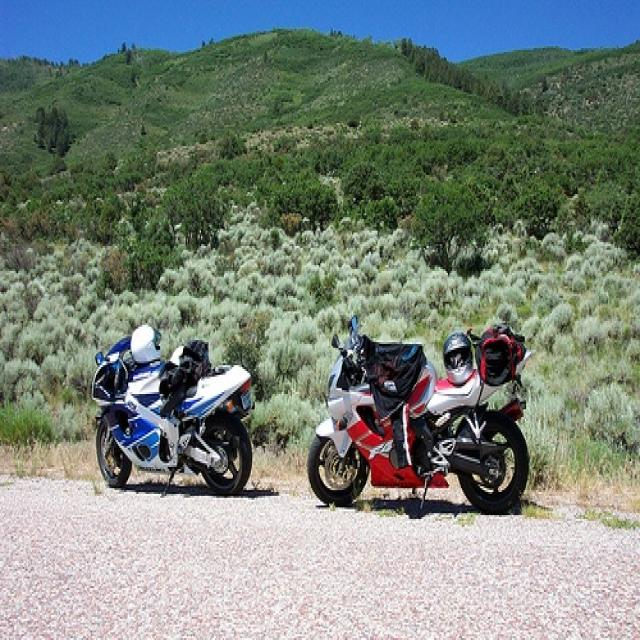motorbike: (305, 309, 531, 519), (89, 330, 258, 498)
